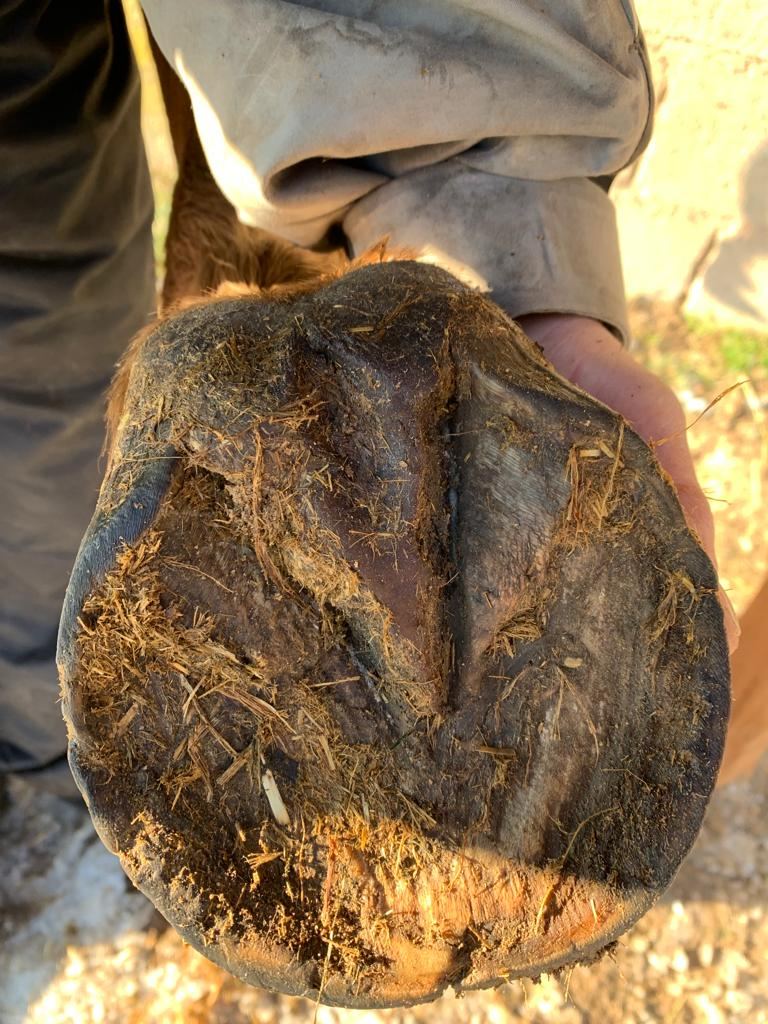horsesole: (59, 352, 731, 1007)
